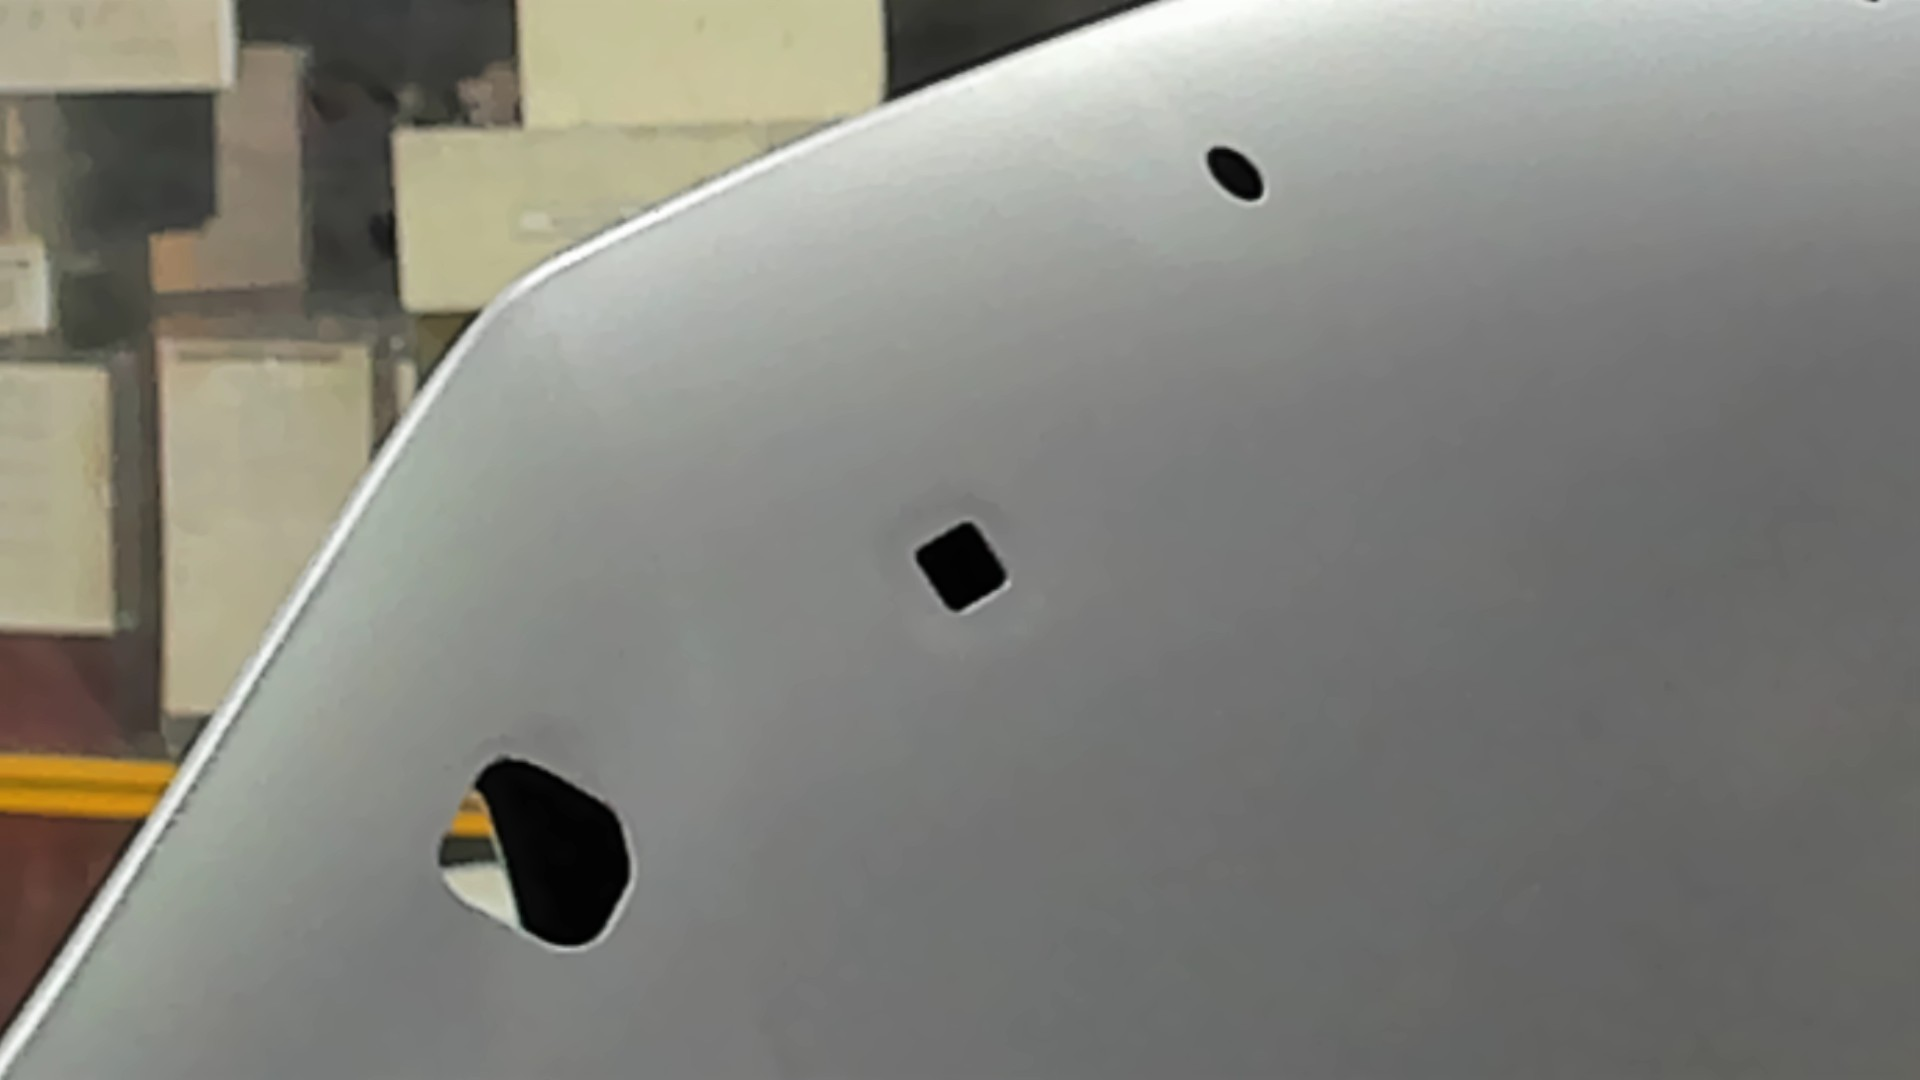chico: (1197, 141, 1271, 208)
grande: (433, 750, 644, 963)
mediano: (906, 513, 1017, 625)
